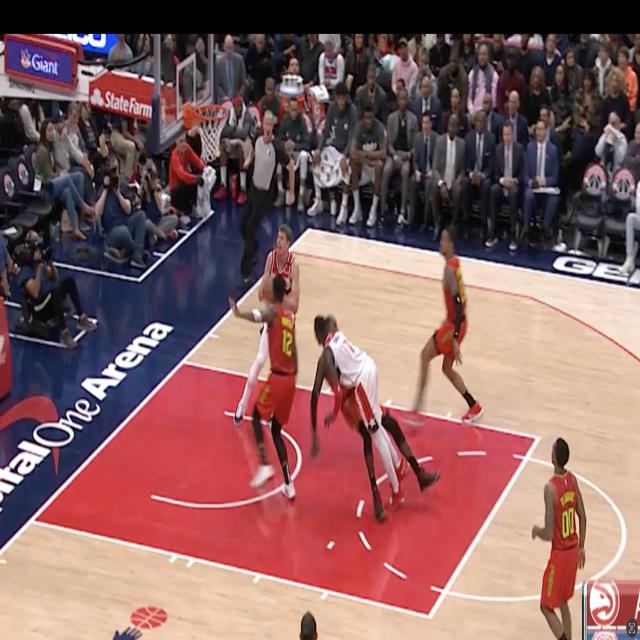foul: (301, 304, 454, 539)
no foul: (243, 207, 296, 504)
